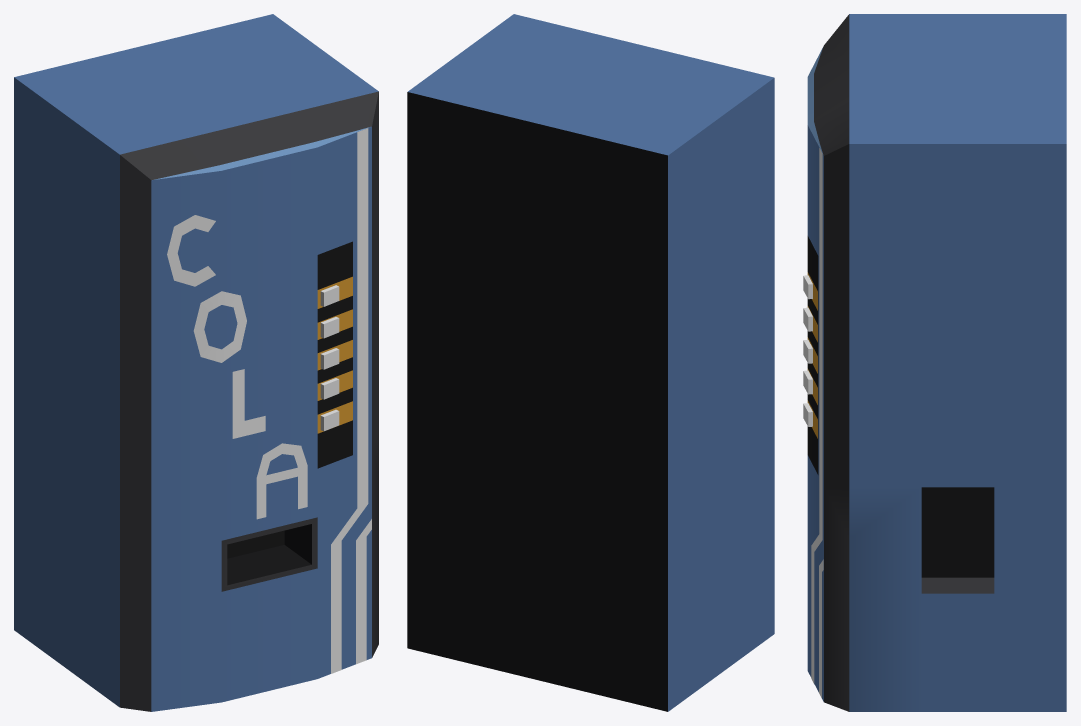
The model's file is RobustSoftDrinks.glb.
The picture shows the model from 3 angles, left to right: view 1: azimuth 30°, elevation 25°; view 2: azimuth 150°, elevation 25°; view 3: azimuth 270°, elevation 25°; orthographic projection. The views are drawn at different scales.
Visible parts, largest first — view 1: RobustSoftDrinks; view 2: RobustSoftDrinks; view 3: RobustSoftDrinks.
Part boxes in pixels (box(x1,y1,x2,y2)): RobustSoftDrinks: box(14, 14, 378, 711); RobustSoftDrinks: box(407, 14, 774, 711); RobustSoftDrinks: box(803, 14, 1066, 711).
Bounding box in the file's own units: 0.8971 × 1.83 × 0.7684.
Materials: 2 (1 with a texture image).
